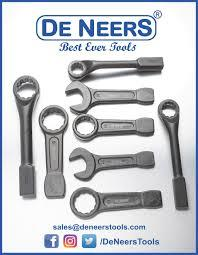wrench: (156, 97, 195, 211), (68, 184, 162, 219), (12, 74, 39, 195), (36, 103, 69, 199), (64, 79, 154, 113), (68, 146, 156, 180), (65, 53, 164, 80), (70, 113, 154, 141)
